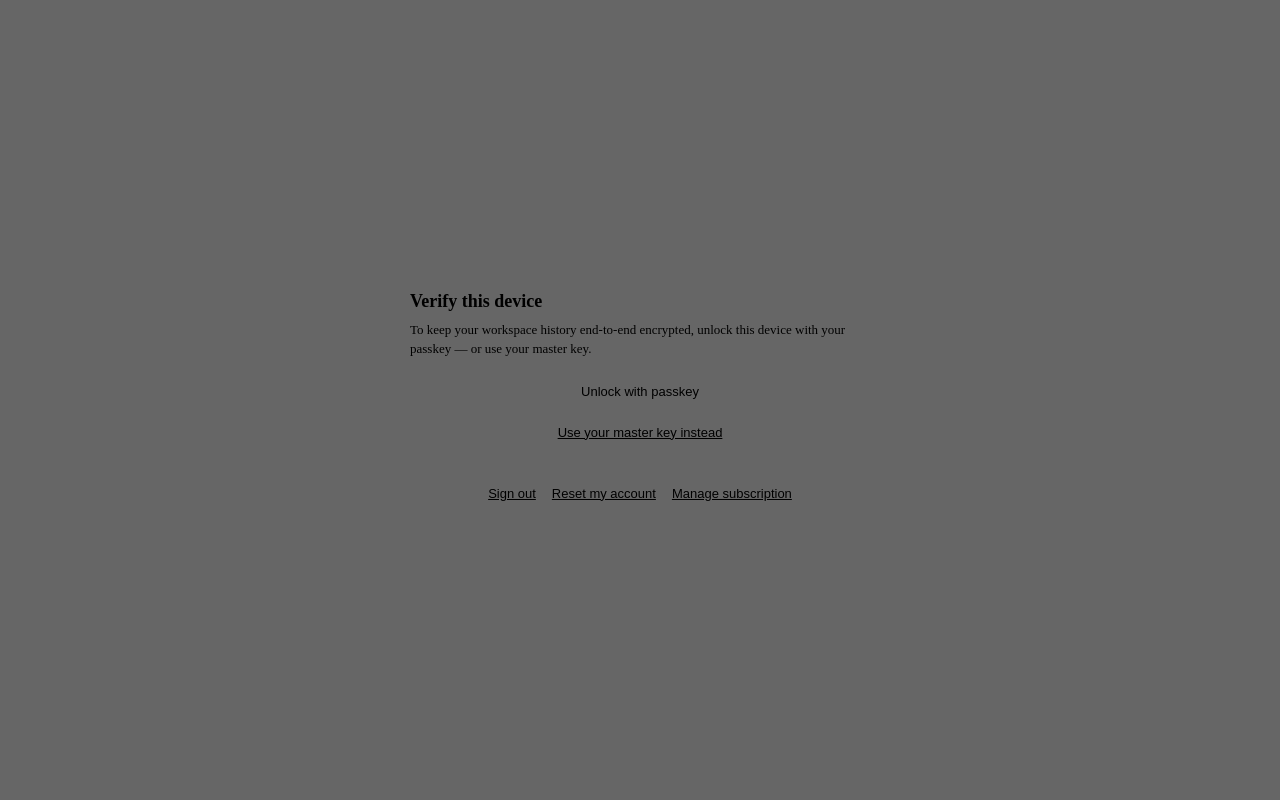
Test: VerifyDeviceScreen › verify gate (new device) › ROUTES a PRF-incapable passkey to the master key
This screenshot has width=1280, height=800.
Click the button "Unlock with passkey" at coordinates (640, 391), box left=410, top=374, right=870, bottom=408
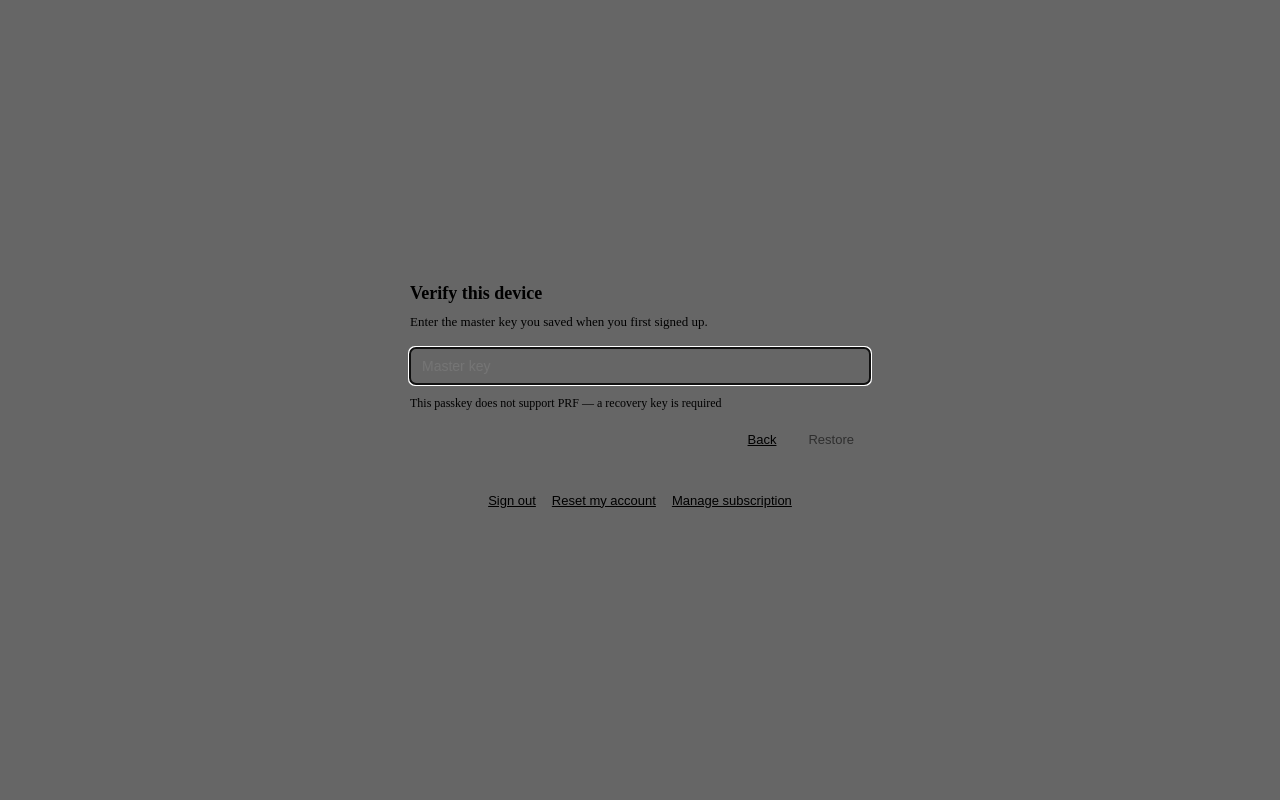
Result: the field is shown at left=410, top=348, right=870, bottom=384
